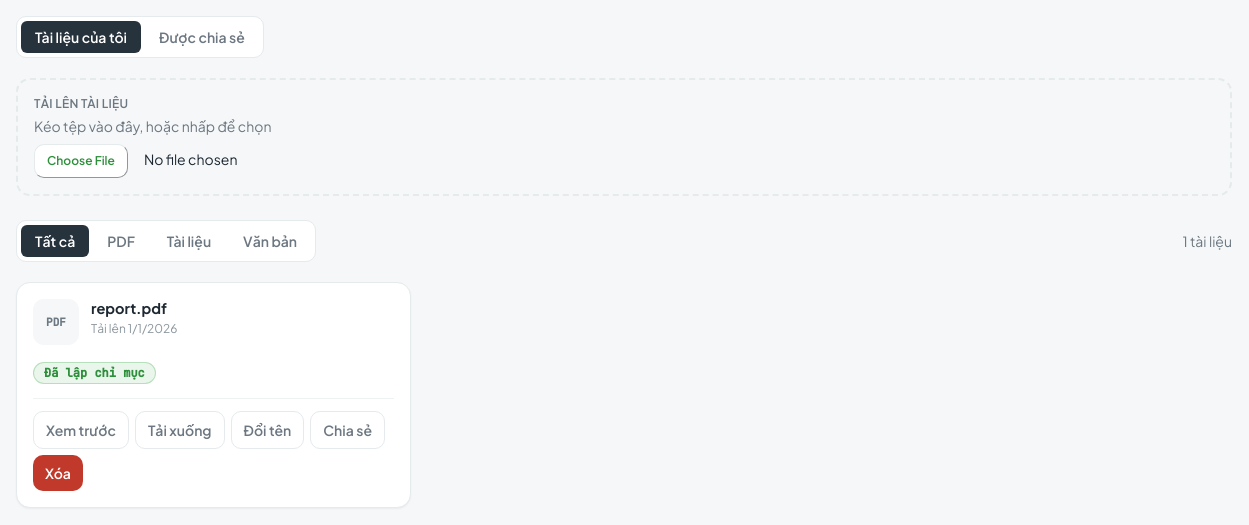
it: DocumentsPage › shows the Shared with me tab with shared documents
This screenshot has width=1249, height=525.
Expected: the text "report.pdf" is shown, x1=91 y1=299 x2=167 y2=317
What coordinates should you click on to do the following:
click the button "Được chia sẻ"
I would click on:
 (202, 37)
Its box is x1=145 y1=21 x2=259 y2=53.
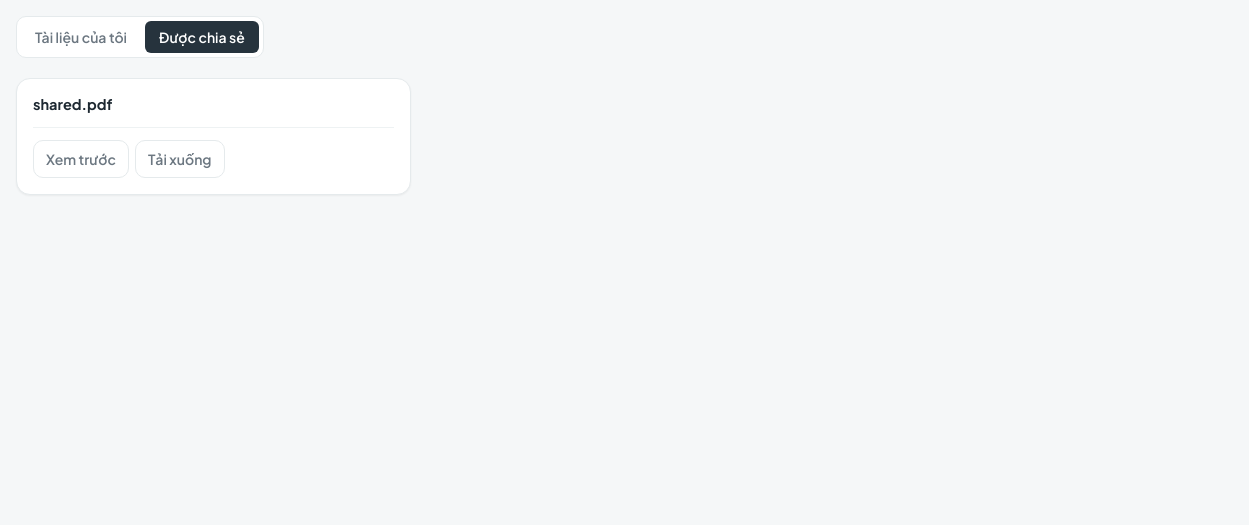
Now the text "shared.pdf" is shown, box x1=33 y1=95 x2=112 y2=113
Now the text "report.pdf" is gone
